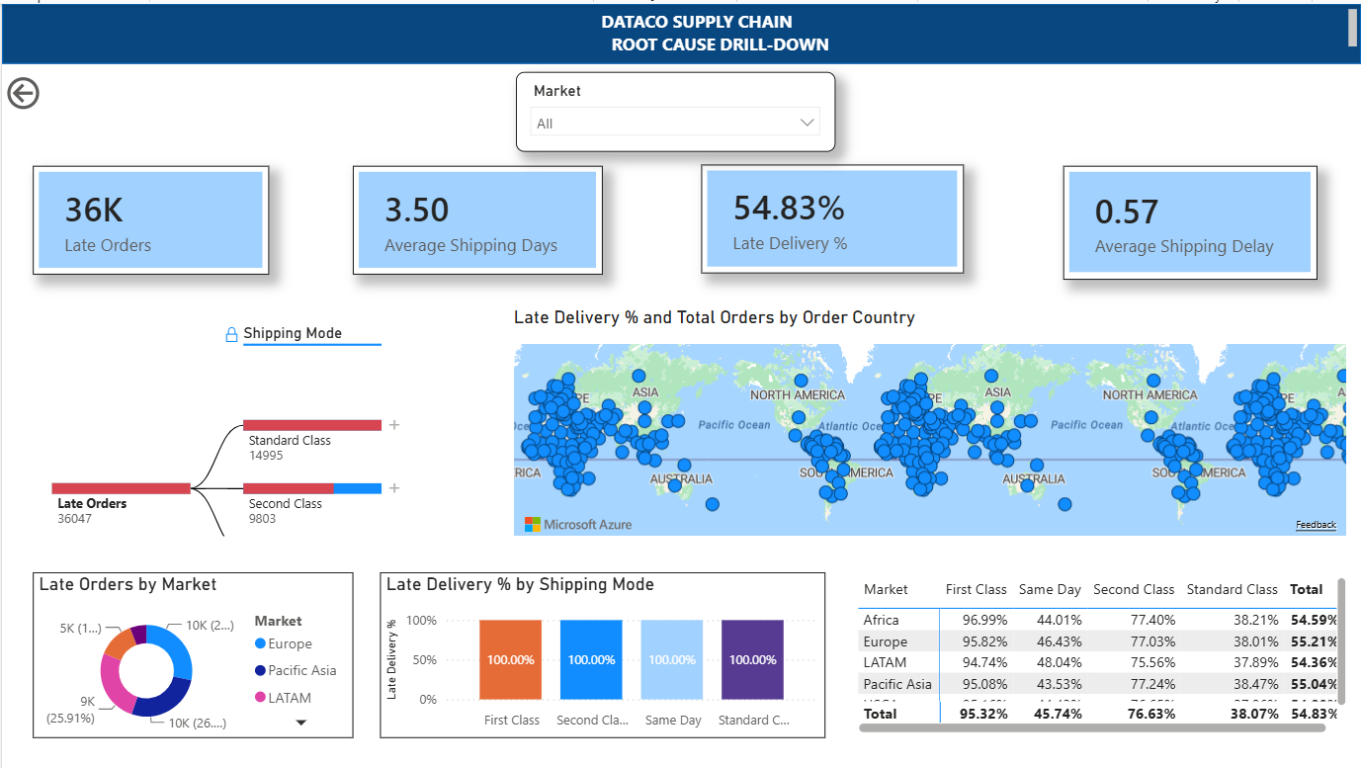

The page's visual inventory and layout, read from the dashboard file:
{"tool":"powerbi","page":{"name":"Root cause Drill-Down","canvas":[1280,720],"ordinal":2},"visuals":[{"type":"cardVisual","fields":{"Data":["Sheet1.Late Orders"]},"box":[29.6,152.2,222.1,102.1],"z":0},{"type":"cardVisual","fields":{"Data":["Sheet1.Late Delivery %"]},"box":[658.5,151.7,247.1,102.1],"z":1000},{"type":"cardVisual","fields":{"Data":["Sheet1.Average Shipping Delay"]},"box":[998.9,152.7,239.3,107],"z":2000},{"type":"cardVisual","fields":{"Data":["Sheet1.Average Shipping Days"]},"box":[330.7,152.7,235.5,102.1],"z":3000},{"type":"decompositionTreeVisual","fields":{"Analyze":["Sheet1.Late Orders"],"ExplainBy":["Sheet1.Market","Sheet1.Customer Segment","Sheet1.Category Name","Sheet1.Shipping Mode"]},"box":[476.4,506,384.2,214],"z":4000},{"type":"azureMap","fields":{"Category":["Sheet1.Order Country"]},"box":[476.6,285,793.7,220.8],"z":5000},{"type":"textbox","box":[0,505,356,215],"z":6000},{"type":"textbox","box":[425,505,418,215],"z":7000},{"type":"donutChart","fields":{"Category":["Sheet1.Market"],"Y":["Sheet1.Late Orders"]},"box":[29.2,535,301.5,155.6],"z":8000},{"type":"hundredPercentStackedColumnChart","fields":{"Category":["Sheet1.Shipping Mode"],"Y":["Sheet1.Late Delivery %"]},"box":[356,535,419.1,155.8],"z":9000},{"type":"pivotTable","fields":{"Columns":["Sheet1.Shipping Mode"],"Rows":["Sheet1.Market"],"Values":["Sheet1.Late Delivery %"]},"box":[801.5,535,469.3,155.8],"z":10000},{"type":"actionButton","box":[0,64.2,100,40],"z":11000},{"type":"shape","box":[0,0,1280,56.4],"z":12000},{"type":"textbox","box":[36,0,1244,56.4],"z":13000},{"type":"slicer","fields":{"Values":["Sheet1.Market"]},"box":[483.4,64.2,300.5,74.9],"z":14000},{"type":"decompositionTreeVisual","fields":{"Analyze":["Sheet1.Late Orders"],"ExplainBy":["Sheet1.Shipping Mode","Sheet1.Category Name","Sheet1.Customer Segment","Sheet1.Market"]},"box":[17.5,285,440.6,220.8],"z":15000}]}

Visuals, with their boxes in screenshot pixels (x1, y1, x2, y2), scaled from the page's 1280x720 canvas onto the 1361x768 screenshot:
cardVisual - Sheet1.Late Orders: {"x1": 31, "y1": 162, "x2": 268, "y2": 271}
cardVisual - Sheet1.Late Delivery %: {"x1": 700, "y1": 162, "x2": 963, "y2": 271}
cardVisual - Sheet1.Average Shipping Delay: {"x1": 1062, "y1": 163, "x2": 1317, "y2": 277}
cardVisual - Sheet1.Average Shipping Days: {"x1": 352, "y1": 163, "x2": 602, "y2": 272}
decompositionTreeVisual - Sheet1.Late Orders x Sheet1.Market: {"x1": 507, "y1": 540, "x2": 915, "y2": 767}
azureMap - Sheet1.Order Country: {"x1": 507, "y1": 304, "x2": 1351, "y2": 540}
textbox: {"x1": 0, "y1": 539, "x2": 379, "y2": 767}
textbox: {"x1": 452, "y1": 539, "x2": 896, "y2": 767}
donutChart - Sheet1.Market x Sheet1.Late Orders: {"x1": 31, "y1": 571, "x2": 352, "y2": 737}
hundredPercentStackedColumnChart - Sheet1.Shipping Mode x Sheet1.Late Delivery %: {"x1": 379, "y1": 571, "x2": 824, "y2": 737}
pivotTable - Sheet1.Shipping Mode x Sheet1.Market: {"x1": 852, "y1": 571, "x2": 1351, "y2": 737}
actionButton: {"x1": 0, "y1": 68, "x2": 106, "y2": 111}
shape: {"x1": 0, "y1": 0, "x2": 1360, "y2": 60}
textbox: {"x1": 38, "y1": 0, "x2": 1360, "y2": 60}
slicer - Sheet1.Market: {"x1": 514, "y1": 68, "x2": 834, "y2": 148}
decompositionTreeVisual - Sheet1.Late Orders x Sheet1.Shipping Mode: {"x1": 19, "y1": 304, "x2": 487, "y2": 540}
